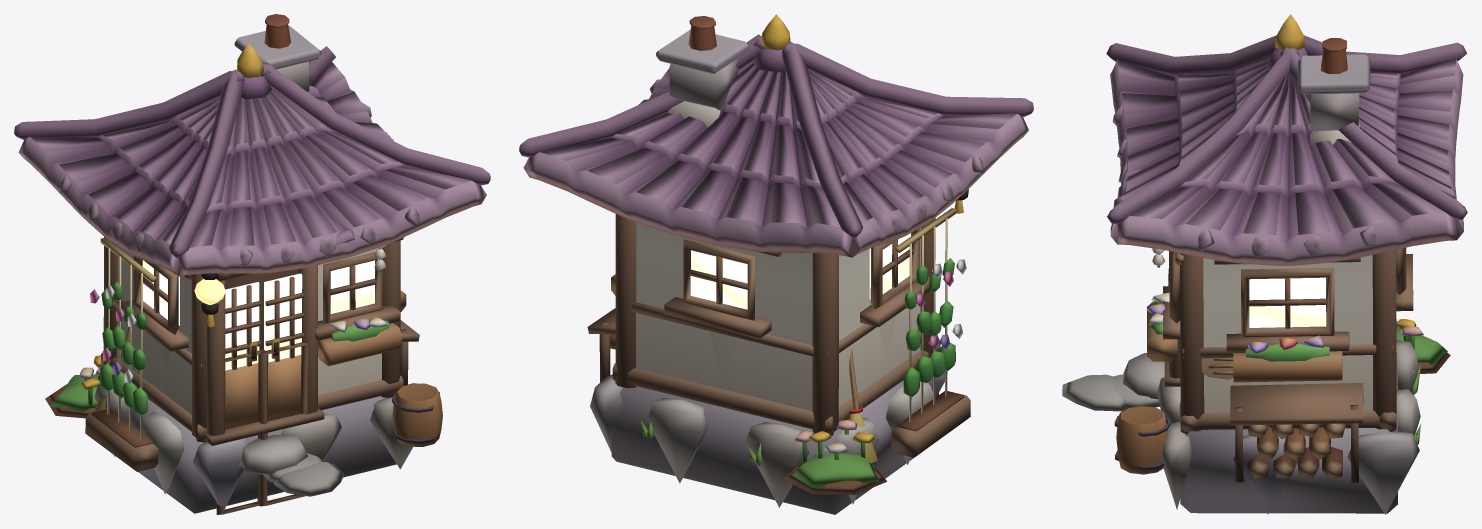
File: home-1-v6.glb
The picture shows the model from 3 angles, left to right: view 1: azimuth 30°, elevation 25°; view 2: azimuth 150°, elevation 25°; view 3: azimuth 270°, elevation 25°; orthographic projection. The views are drawn at different scales.
Visible parts, largest first — view 1: home, window_glow; view 2: home, window_glow; view 3: home, window_glow.
Boxes of the visible parts, bbox=[...] form: home: bbox=[14, 14, 490, 514]; window_glow: bbox=[142, 260, 374, 370]; home: bbox=[519, 14, 1033, 514]; window_glow: bbox=[690, 233, 910, 309]; home: bbox=[1062, 14, 1467, 514]; window_glow: bbox=[1249, 277, 1326, 327].
Size of the model in its own units: 2.36 by 2.89 by 2.38.
